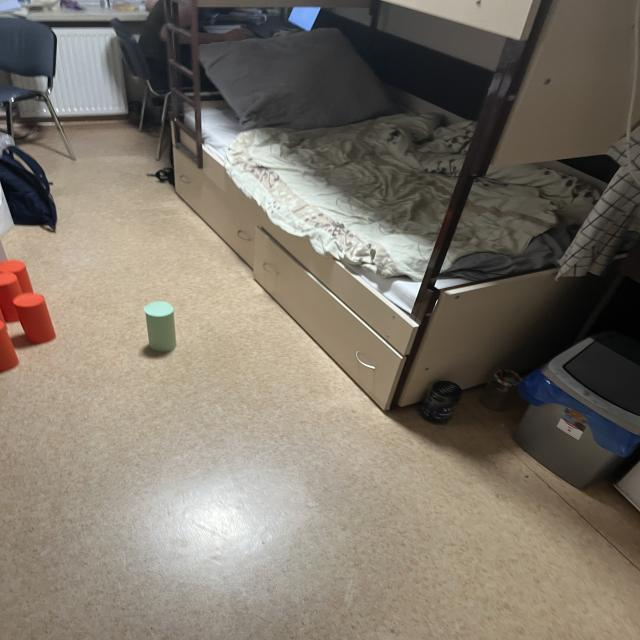meta: (144, 301, 176, 352)
